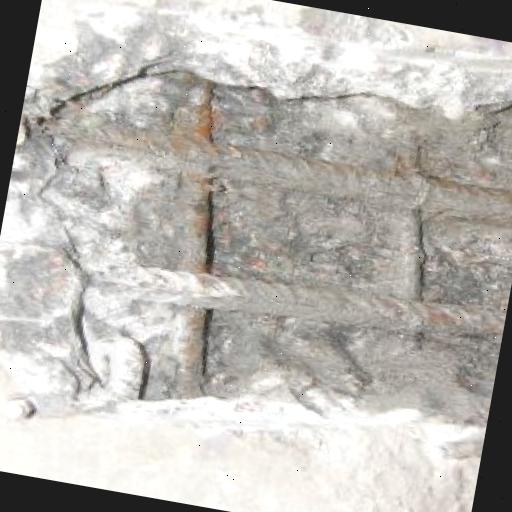spalling: (0, 67, 512, 431)
